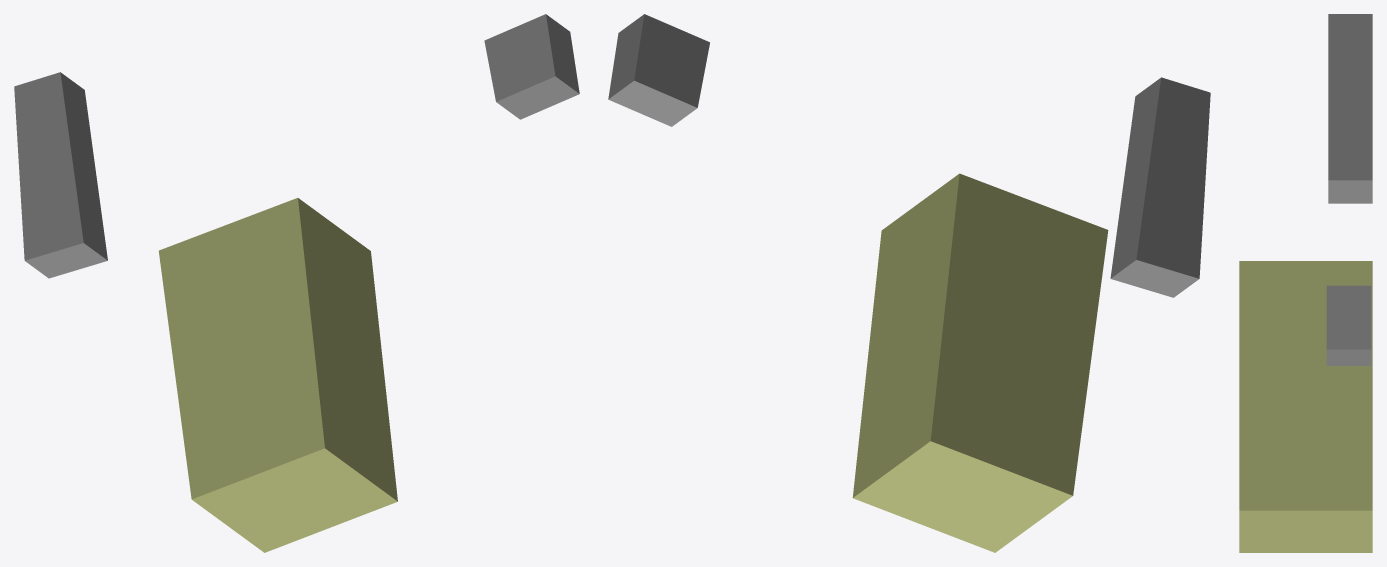
The picture shows the model from 3 angles, left to right: view 1: azimuth 30°, elevation 25°; view 2: azimuth 150°, elevation 25°; view 3: azimuth 270°, elevation 25°; orthographic projection. The views are drawn at different scales.
Visible parts, largest first — view 1: 0_1_0_2_0_0_2_1_0; view 2: 0_1_0_2_0_0_2_1_0; view 3: 0_1_0_2_0_0_2_1_0.
Part boxes in pixels (x1,y1,x2,y2): 0_1_0_2_0_0_2_1_0: (14, 14, 579, 552); 0_1_0_2_0_0_2_1_0: (608, 14, 1210, 552); 0_1_0_2_0_0_2_1_0: (1239, 14, 1372, 552).
Bounding box in the file's own units: 38.48 × 31.26 × 9.
